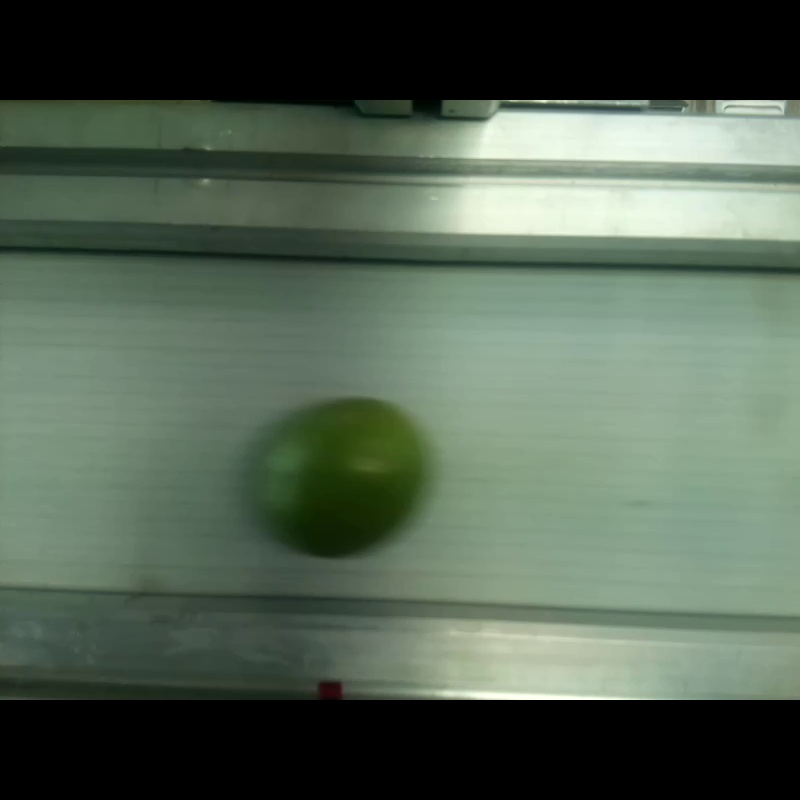lime: (255, 399, 423, 558)
